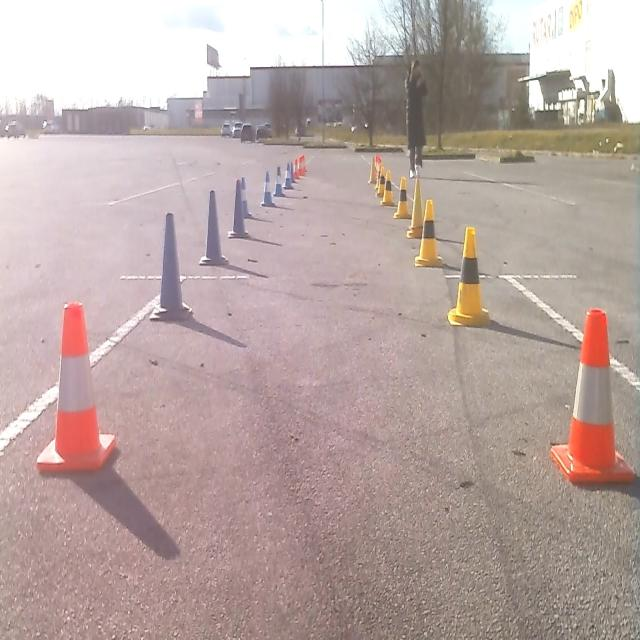blue_cone: (149, 210, 193, 322), (198, 187, 228, 267), (228, 180, 248, 240), (259, 171, 275, 207), (239, 177, 250, 219), (273, 166, 285, 198), (284, 163, 293, 190)
orange_cone: (549, 304, 635, 488), (36, 298, 116, 475), (374, 156, 382, 178), (292, 158, 300, 179), (298, 155, 306, 176)
yellow_cone: (447, 224, 490, 327), (413, 196, 442, 268), (406, 175, 424, 238), (393, 174, 411, 220), (380, 168, 395, 206), (368, 158, 377, 185), (374, 165, 383, 190)
